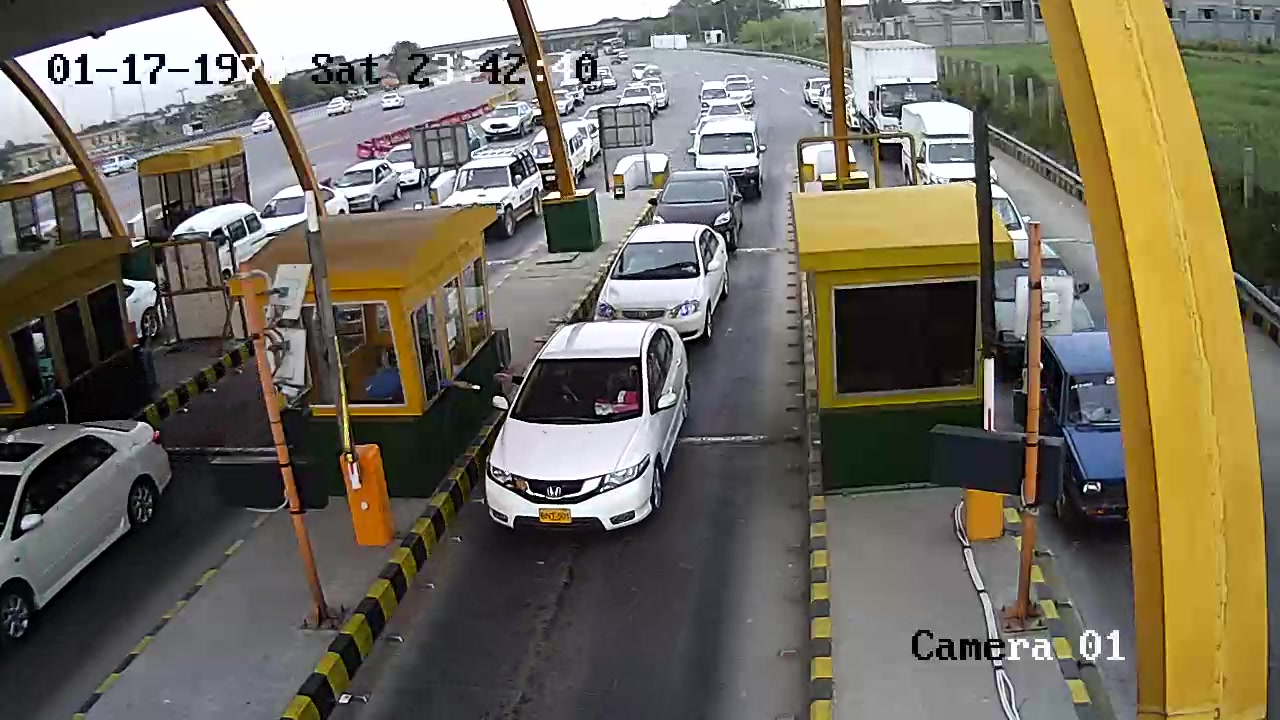F1: (470, 312, 705, 556)
